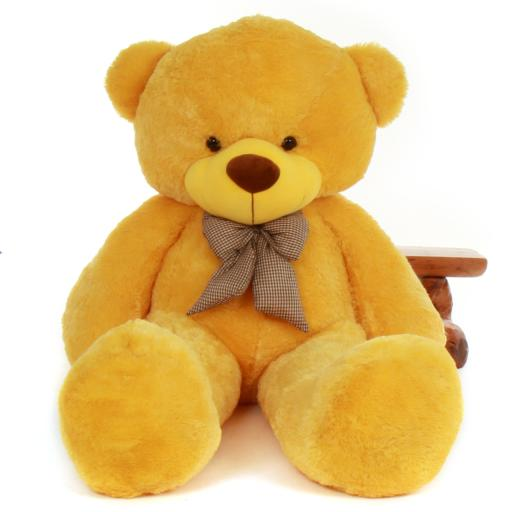peluche: (63, 8, 463, 495), (65, 6, 460, 498)
